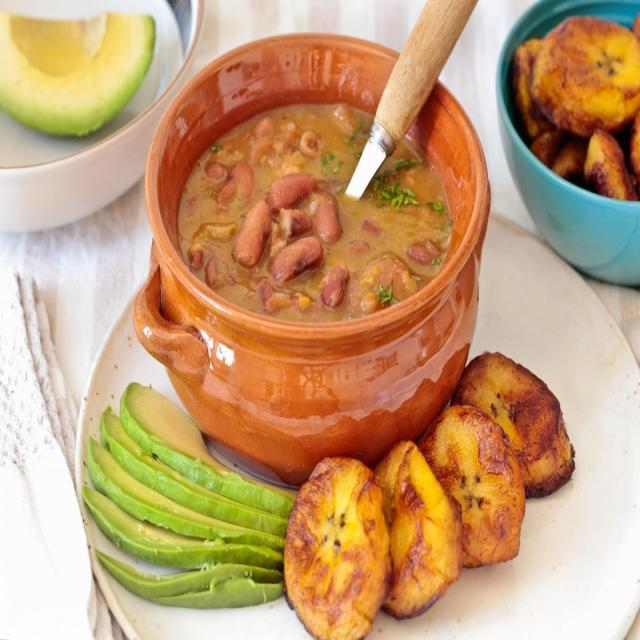aguacate: (77, 378, 286, 624)
frijoles: (160, 78, 468, 333)
platano: (274, 446, 392, 635), (448, 348, 586, 499), (415, 396, 528, 573), (371, 440, 470, 624)
